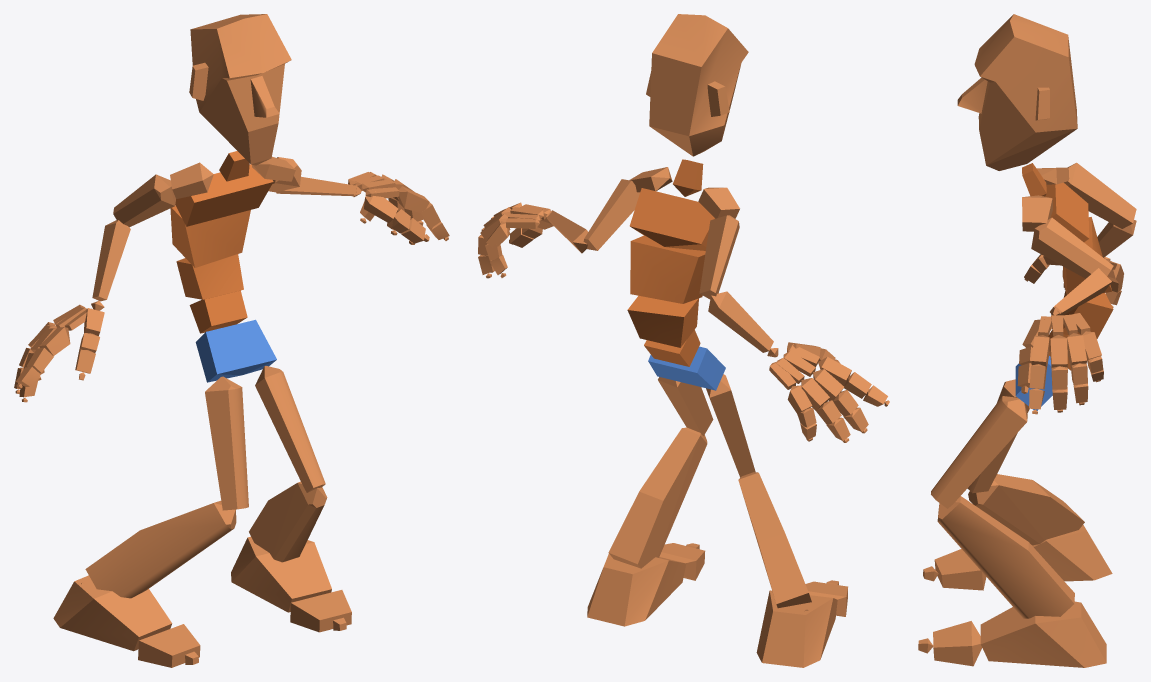
The model's file is prueba229.obj.
The picture shows the model from 3 angles, left to right: view 1: azimuth 30°, elevation 25°; view 2: azimuth 150°, elevation 25°; view 3: azimuth 270°, elevation 25°; orthographic projection. The views are drawn at different scales.
Parts seen in each view (by area): view 1: BOPED_Head, BOPED_R_leg, BOPED_R_foot, BOPED_R_foot01, BOPED_R_legup, BOPED_L_leg, BOPED_L_legup, Bone01, Bone04, Bone05, Bone03, BOPED_R_arm_upper (+8 smaller); view 2: BOPED_Head, BOPED_L_leg, BOPED_R_foot01, BOPED_R_foot, BOPED_R_leg, Bone04, Bone05, Bone03, BOPED_R_arm_upper, BOPED_R_legup, BOPED_L_arm_upper, Bone01 (+9 smaller); view 3: BOPED_Head, BOPED_L_leg, BOPED_R_foot01, BOPED_R_leg, BOPED_L_legup, BOPED_R_foot, BOPED_L_arm_upper, BOPED_R_arm_upper, BOPED_R_foot_toe04, Bone05, BOPED_R_foot_toe01, BOPED_L_arm_fore (+15 smaller).
Boxes of the visible parts, <box> form: BOPED_Head: <box>189,14,291,165</box>; BOPED_R_leg: <box>85,500,236,598</box>; BOPED_R_foot: <box>53,575,172,651</box>; BOPED_R_foot01: <box>231,536,331,612</box>; BOPED_R_legup: <box>205,376,248,510</box>; BOPED_L_leg: <box>249,481,327,562</box>; BOPED_L_legup: <box>255,366,325,492</box>; Bone01: <box>195,319,276,382</box>; Bone04: <box>170,205,250,267</box>; Bone05: <box>175,164,273,226</box>; Bone03: <box>176,254,243,299</box>; BOPED_R_arm_upper: <box>113,174,175,227</box>; BOPED_Head: <box>646,14,748,156</box>; BOPED_L_leg: <box>608,427,707,568</box>; BOPED_R_foot01: <box>587,554,686,626</box>; BOPED_R_foot: <box>756,590,837,667</box>; BOPED_R_leg: <box>738,472,811,608</box>; Bone04: <box>630,235,705,303</box>; Bone05: <box>629,188,715,250</box>; Bone03: <box>627,295,698,347</box>; BOPED_R_arm_upper: <box>699,215,739,299</box>; BOPED_R_legup: <box>706,374,755,477</box>; BOPED_L_arm_upper: <box>583,179,639,250</box>; Bone01: <box>648,346,725,390</box>; BOPED_Head: <box>957,14,1077,170</box>; BOPED_L_leg: <box>937,496,1074,618</box>; BOPED_R_foot01: <box>980,601,1106,667</box>; BOPED_R_leg: <box>968,474,1084,545</box>; BOPED_L_legup: <box>931,396,1027,508</box>; BOPED_R_foot: <box>1032,525,1112,581</box>; BOPED_L_arm_upper: <box>1031,217,1113,278</box>; BOPED_R_arm_upper: <box>1064,162,1136,228</box>; BOPED_R_foot_toe04: <box>933,621,982,666</box>; Bone05: <box>1045,182,1089,242</box>; BOPED_R_foot_toe01: <box>934,549,986,590</box>; BOPED_L_arm_fore: <box>1050,268,1111,315</box>.
Size of the model in its own units: 130 by 175 by 57.17.
